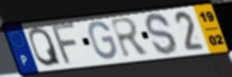2: (174, 10, 206, 52)
F: (51, 21, 80, 67)
G: (87, 20, 119, 61)
Q: (27, 25, 63, 68)
R: (108, 16, 152, 60)
S: (144, 11, 180, 57)
